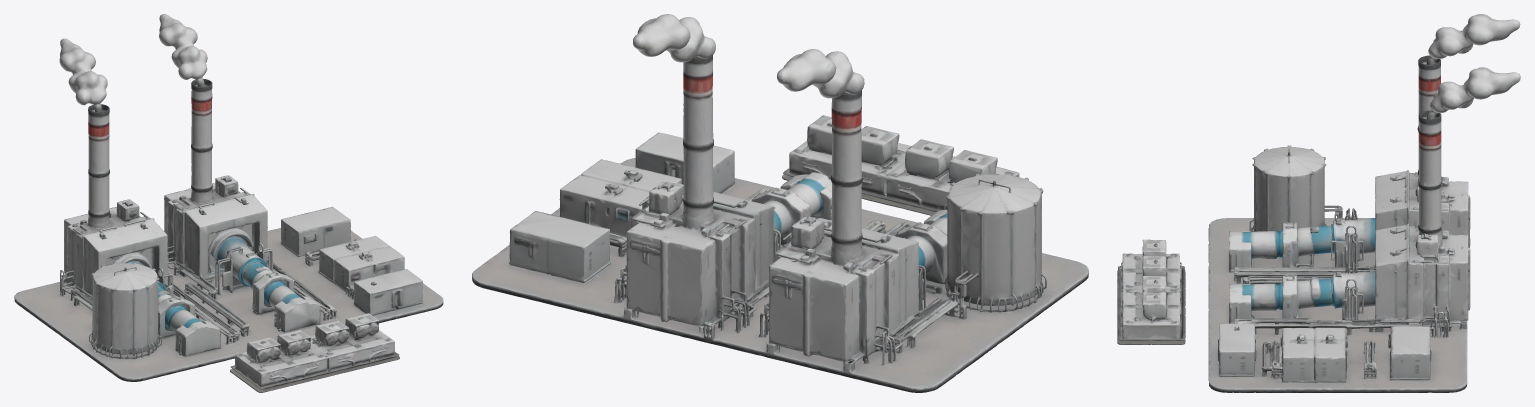
Rendered from gas_plant_opt.glb.
3 renders of one model, left to right at view 1: azimuth 30°, elevation 25°; view 2: azimuth 150°, elevation 25°; view 3: azimuth 270°, elevation 25°, orthographic. The views are drawn at different scales.
Parts seen in each view (by area): view 1: geometry_0; view 2: geometry_0; view 3: geometry_0.
Part boxes in pixels (x1,y1,x2,y2): geometry_0: (14,14,443,392); geometry_0: (472,14,1088,392); geometry_0: (1117,14,1520,392).
Size of the model in its own units: 0.9954 by 0.6663 by 0.9903.
1 material, 1 textured.
